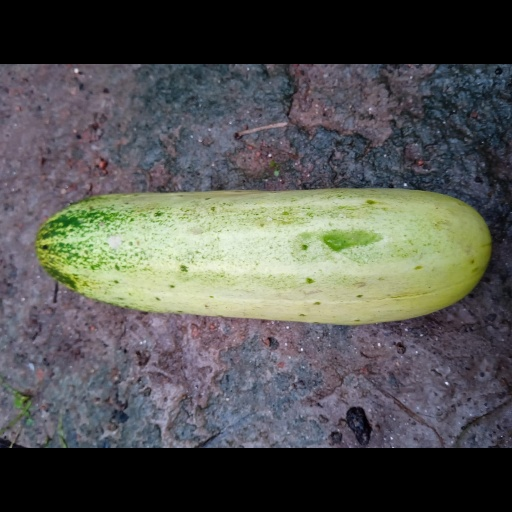concombre: (35, 188, 493, 328)
